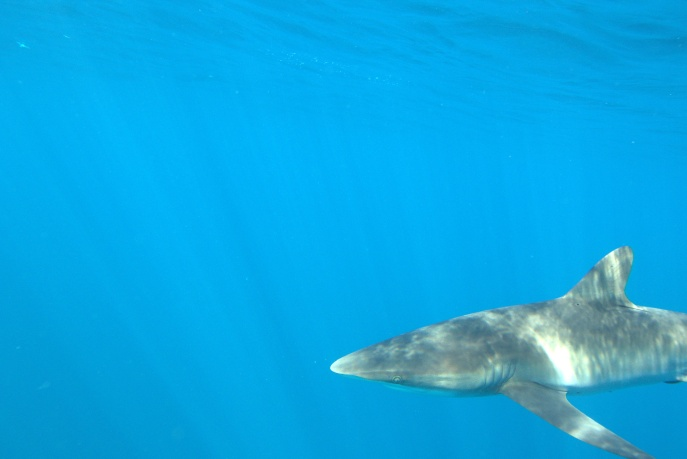Sedoso: (323, 236, 687, 457)
